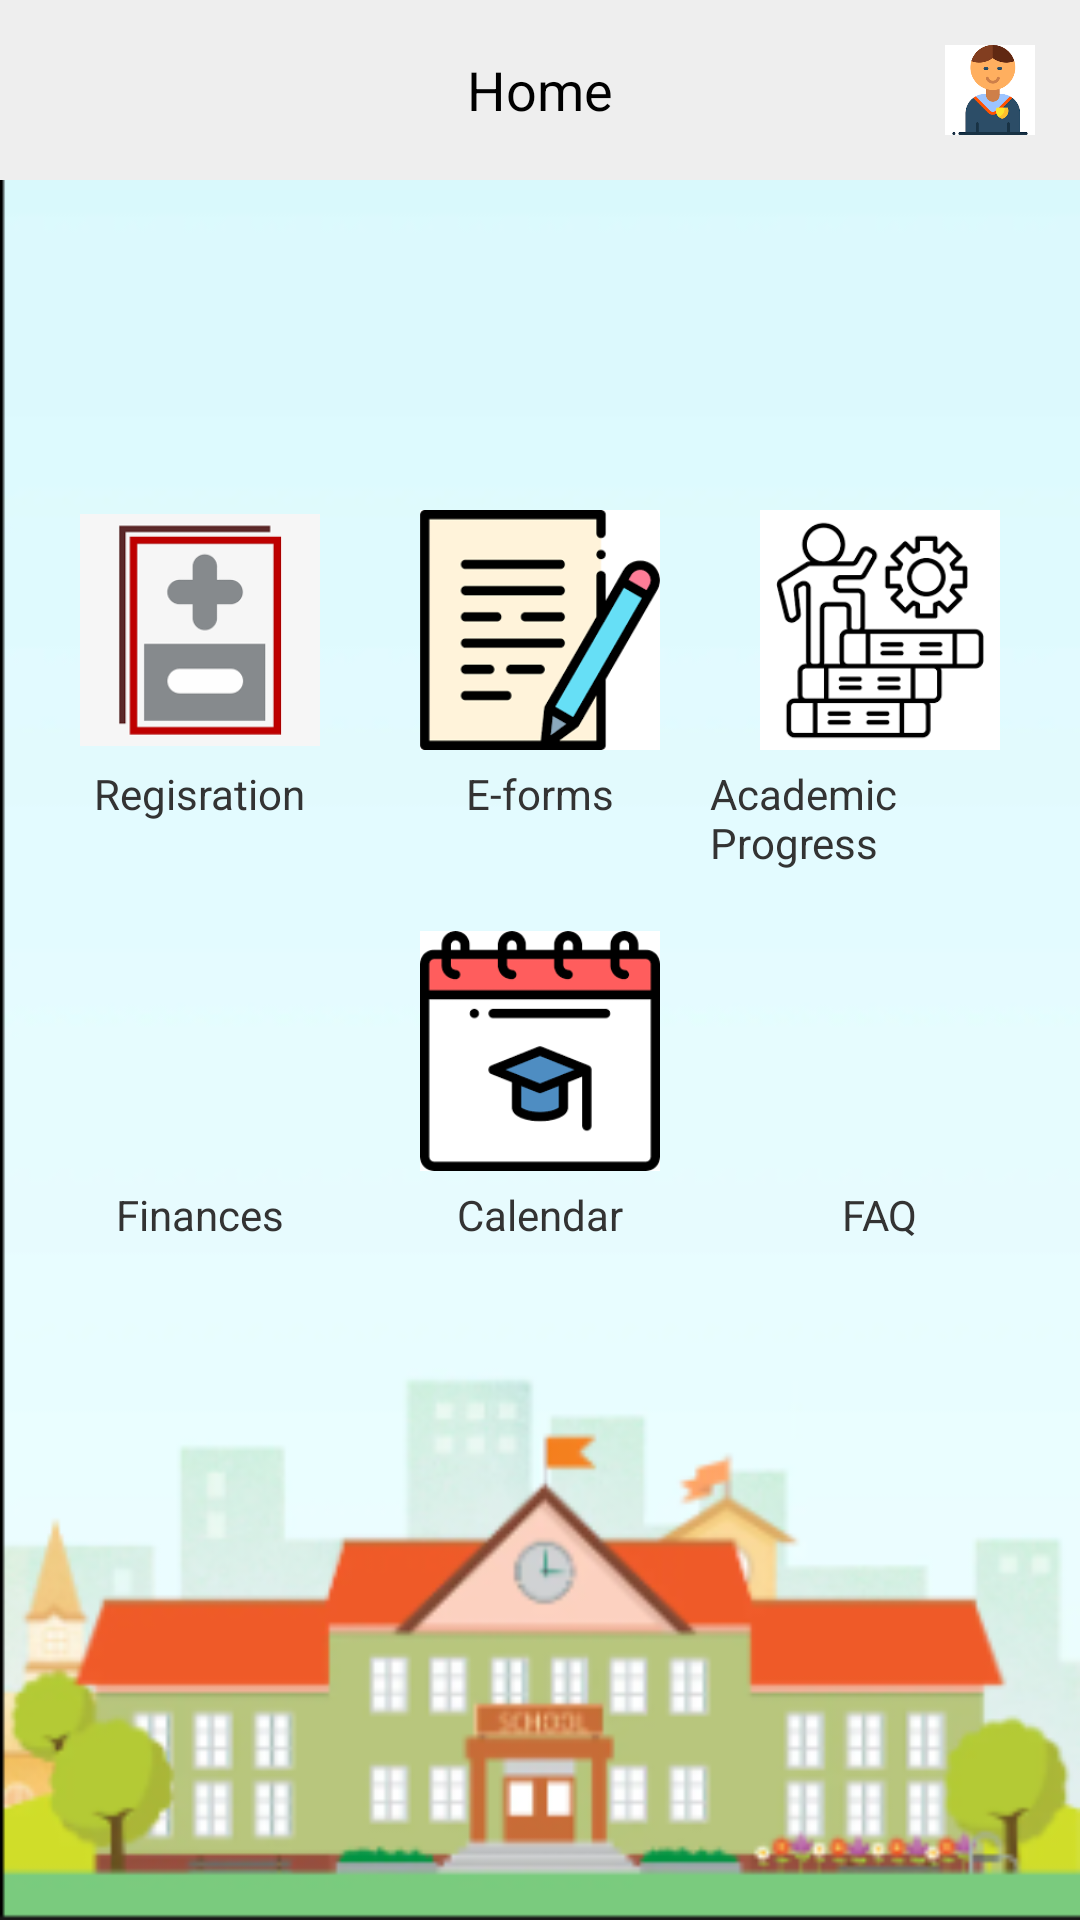

Where icons sit on this 1080x1920 app screen, as region(x1, y1, x2, y2):
add drop course: region(119, 524, 282, 736)
profile: region(952, 45, 1028, 135)
